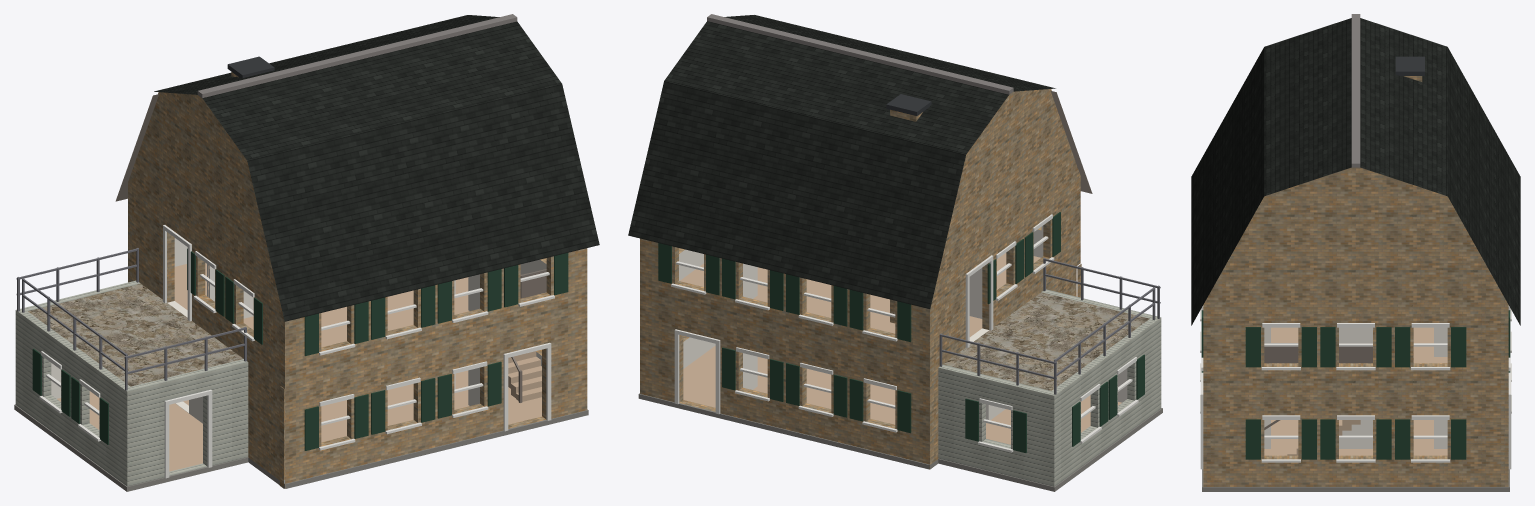
Rendered from mh-gambrel-house.towns-v2.lod0.glb.
3 renders of one model, left to right at view 1: azimuth 30°, elevation 25°; view 2: azimuth 150°, elevation 25°; view 3: azimuth 270°, elevation 25°, orthographic. The views are drawn at different scales.
Parts seen in each view (by area): view 1: mh-gambrel-house; view 2: mh-gambrel-house; view 3: mh-gambrel-house.
Part boxes in pixels (x1=…): mh-gambrel-house: x1=14, y1=14, x2=599, y2=491; mh-gambrel-house: x1=628, y1=14, x2=1162, y2=491; mh-gambrel-house: x1=1191, y1=14, x2=1520, y2=491.
Size of the model in its own units: 14.3 by 10.77 by 9.7.
7 materials, 4 textured.
